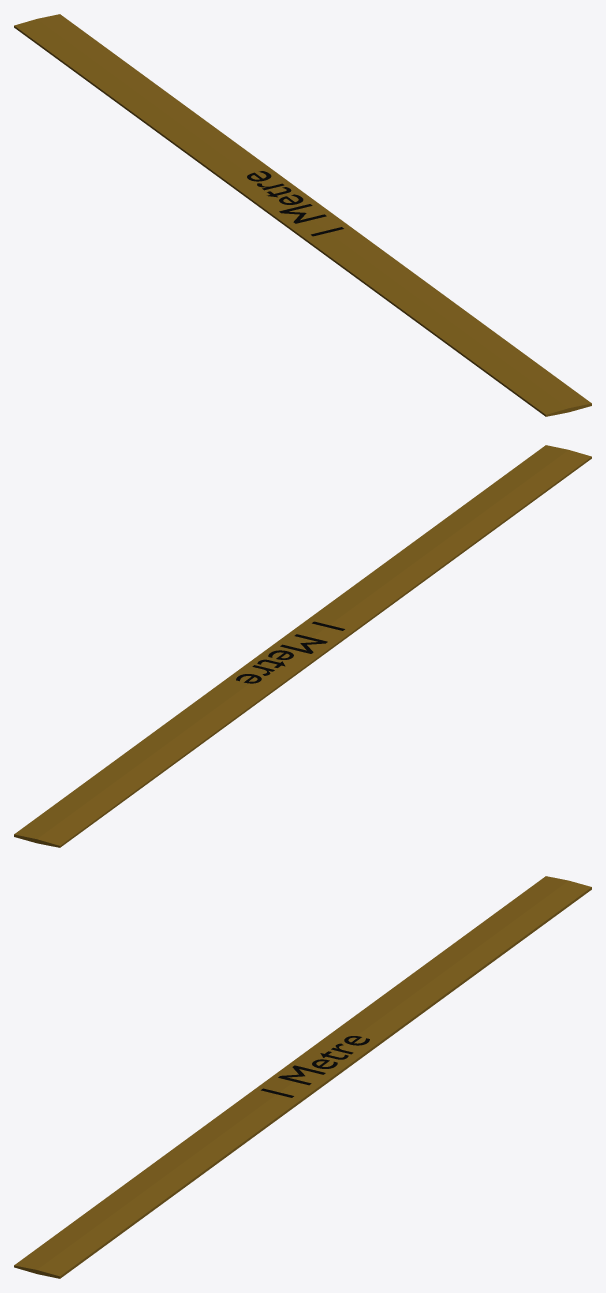
Rendered from metre1.gltf.
The picture shows the model from 3 angles, top to bottom: view 1: azimuth 30°, elevation 25°; view 2: azimuth 150°, elevation 25°; view 3: azimuth 330°, elevation 25°; orthographic projection.
Visible parts, largest first — view 1: Cube, Text; view 2: Cube, Text; view 3: Cube, Text.
Boxes of the visible parts, x1,y1,x2,y2 form: Cube: (14, 14, 591, 416); Text: (247, 171, 343, 236); Cube: (14, 445, 591, 847); Text: (236, 621, 344, 683); Cube: (14, 876, 591, 1278); Text: (261, 1036, 369, 1097).
Bounding box in the file's own units: 1 × 0.0896 × 20.
